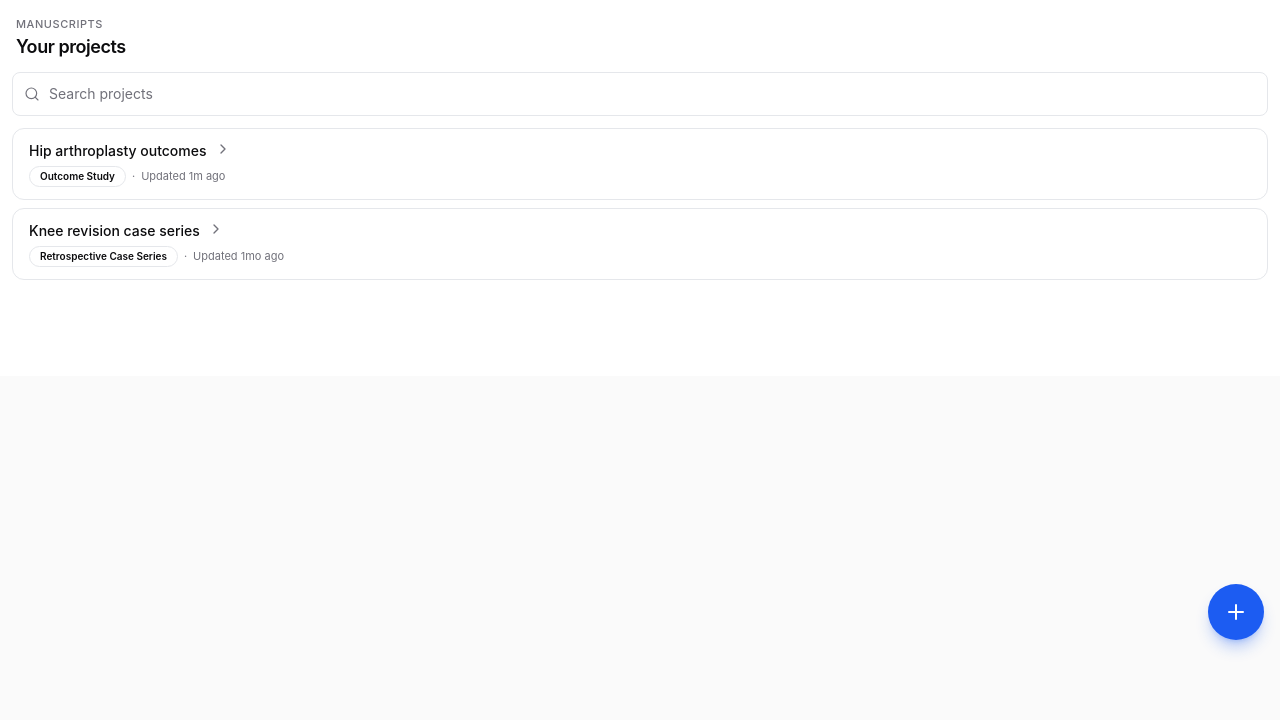
Test: MobileManuscripts › opens the create sheet when the FAB is tapped
Expected: the button with test id "mmanu-row-p-1" is shown, [12,128,1268,200]
Click the button with test id "mmanu-fab" at (1236, 612), box [1208,584,1264,640]
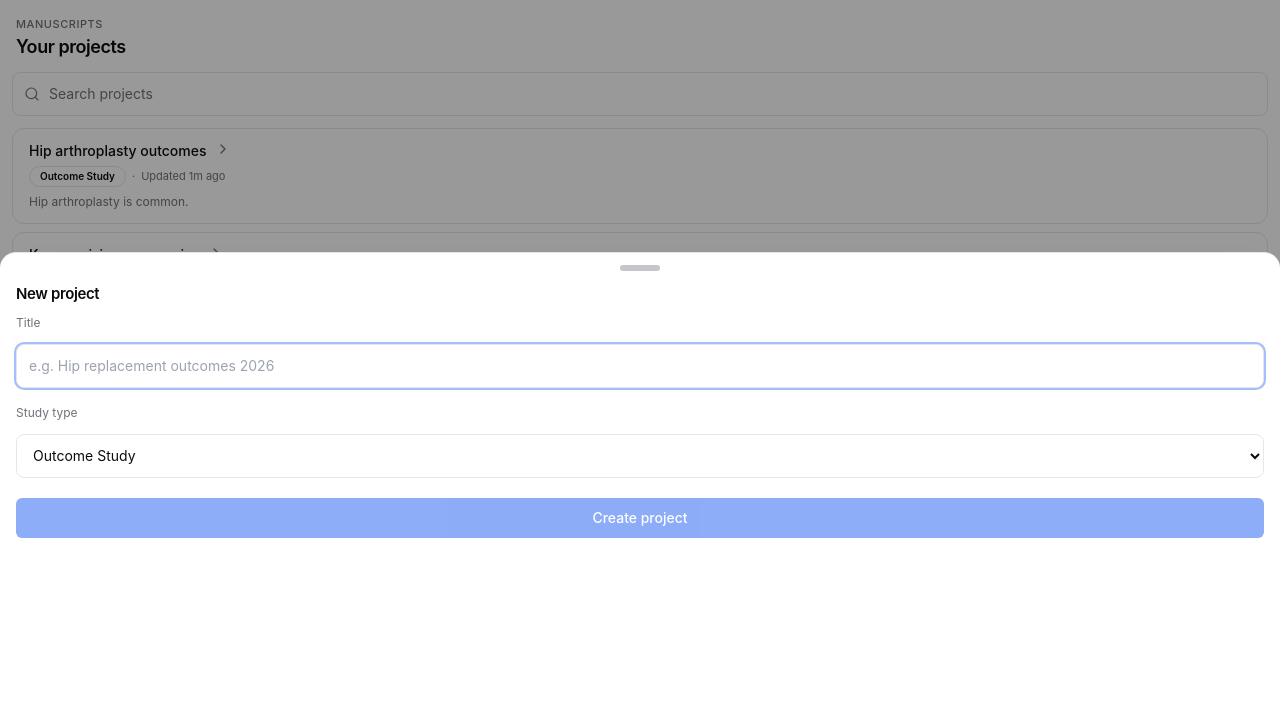
Now the form with test id "mmanu-create-sheet" is shown, box [16,314,1264,546]
Now the field with test id "mmanu-title-input" is shown, box [16,344,1264,388]
